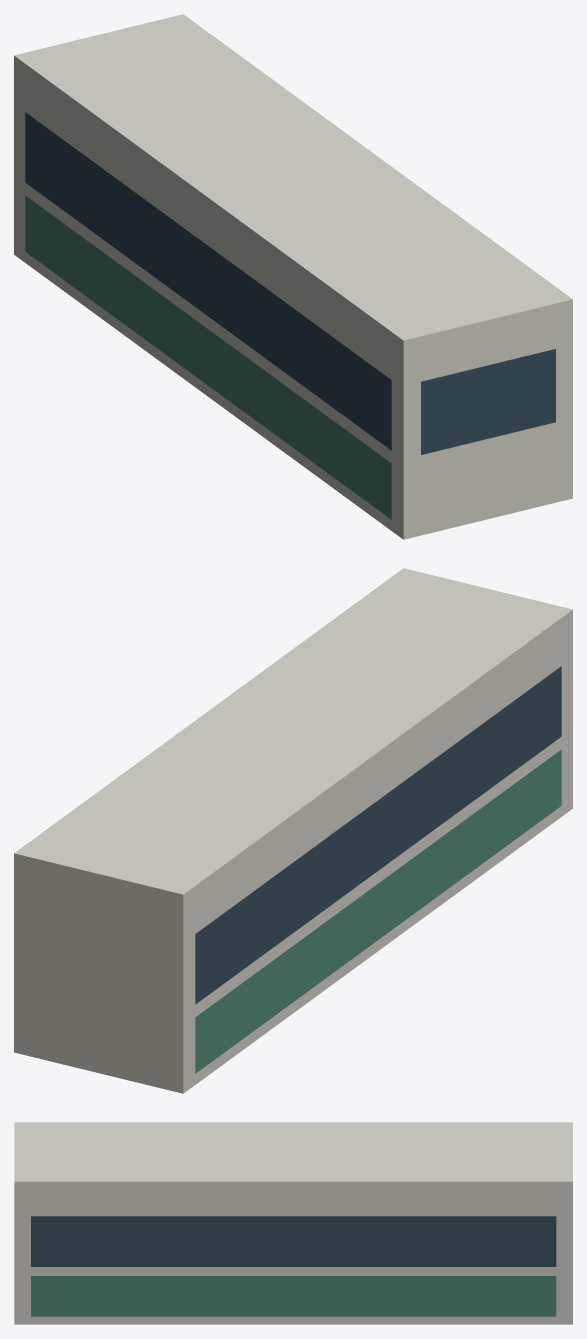
Rendered from 2_far.fbx.
3 views of the same model, one above another, from view 1: azimuth 30°, elevation 25°; view 2: azimuth 150°, elevation 25°; view 3: azimuth 270°, elevation 25° (orthographic). The views are drawn at different scales.
Parts seen in each view (by area): view 1: 14_2_far; view 2: 14_2_far; view 3: 14_2_far.
Part boxes in pixels (x1=…): 14_2_far: x1=14, y1=14, x2=572, y2=539; 14_2_far: x1=14, y1=568, x2=572, y2=1093; 14_2_far: x1=14, y1=1122, x2=572, y2=1324.
Bounding box in the file's own units: 2.52 × 2.82 × 10.
